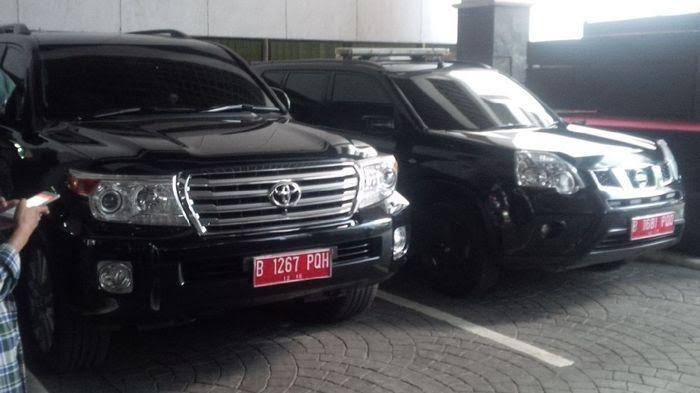plate: (251, 245, 334, 288)
